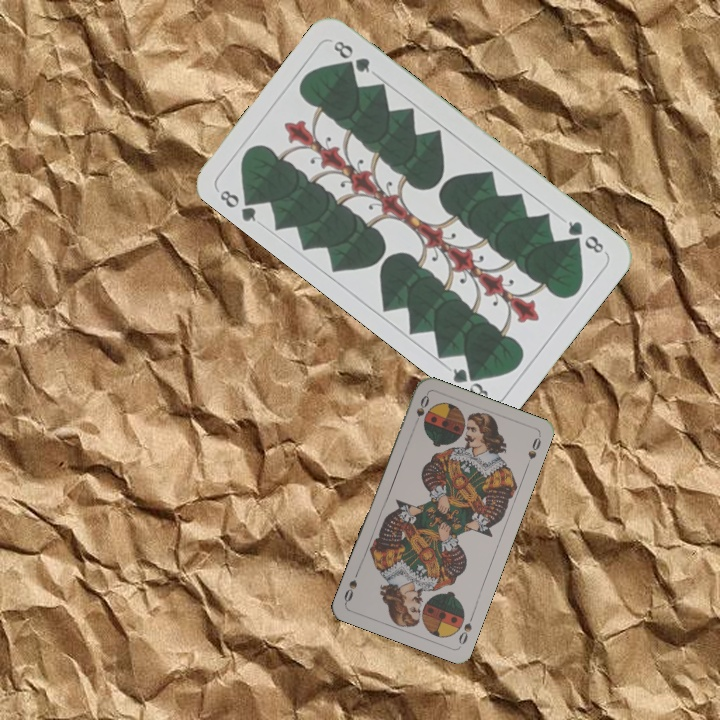G8: (215, 185, 262, 225), (563, 216, 607, 257)
SO: (454, 609, 477, 647), (410, 391, 432, 430)
